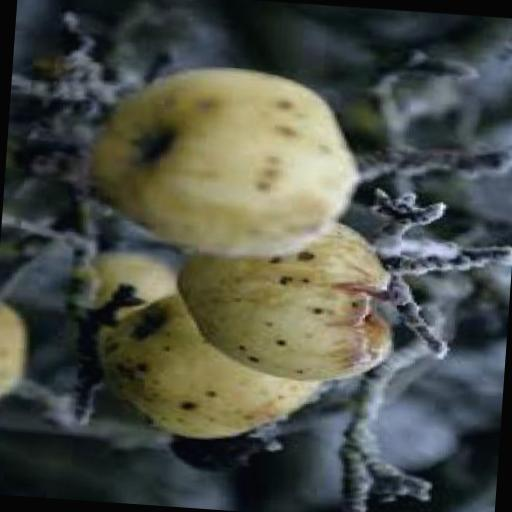biodegradable: (84, 60, 371, 266), (174, 213, 406, 388), (96, 290, 336, 450), (85, 250, 196, 330), (0, 302, 41, 407)
